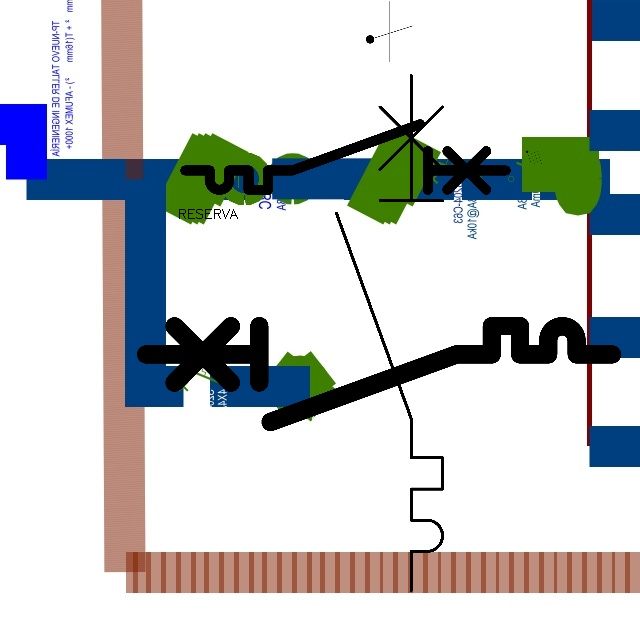interruptor_termomagnetico: (323, 62, 456, 604), (134, 314, 624, 434), (177, 116, 514, 198)
